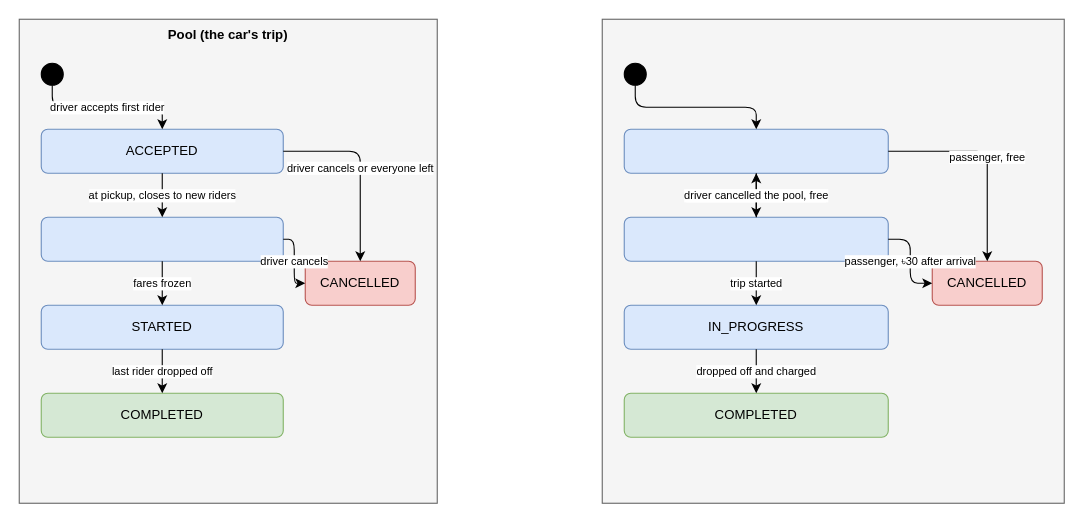
Image size: 1084x523. Some labels were removed from this diagram. Here are the shapes that lost their labels. From the top down, the box of each, then its label:
(623, 128, 888, 173): REQUESTED
(40, 216, 283, 261): DRIVER_ARRIVED
(623, 216, 888, 261): MATCHED
(601, 18, 1064, 503): Ride (one passenger)
